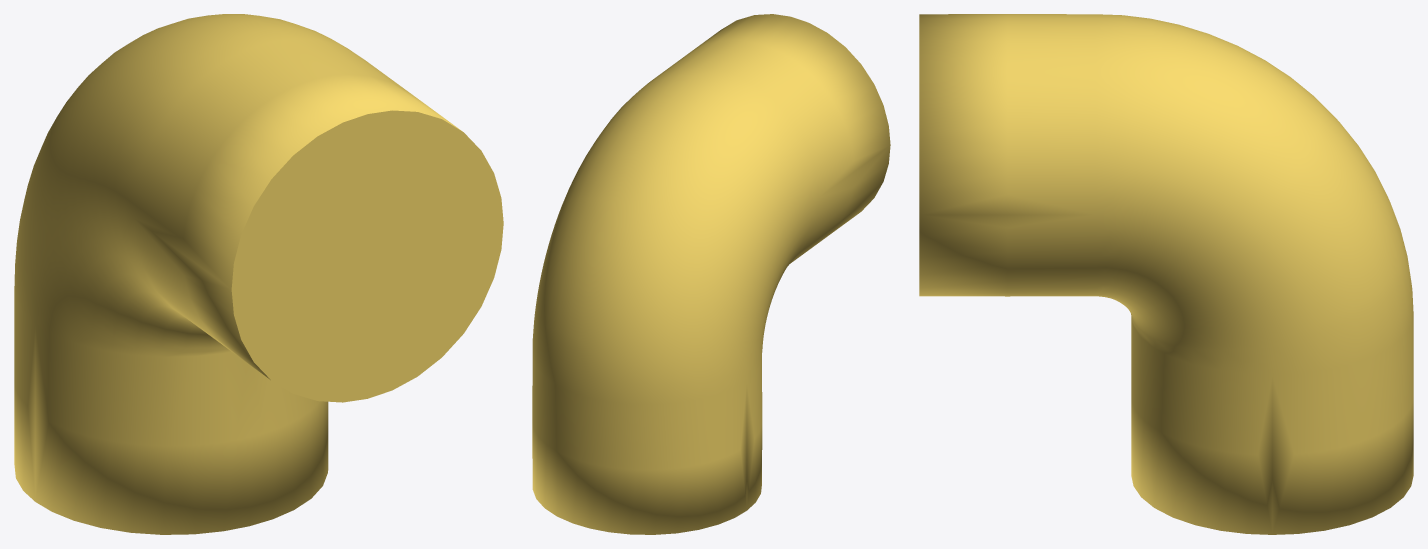
3 renders of one model, left to right at view 1: azimuth 30°, elevation 25°; view 2: azimuth 150°, elevation 25°; view 3: azimuth 270°, elevation 25°, orthographic. The views are drawn at different scales.
Parts seen in each view (by area): view 1: link1; view 2: link1; view 3: link1.
Part boxes in pixels (x1=…): link1: x1=14, y1=14, x2=503, y2=534; link1: x1=532, y1=14, x2=890, y2=534; link1: x1=919, y1=14, x2=1413, y2=534.
Bounding box in the file's own units: 80 × 140 × 140.
